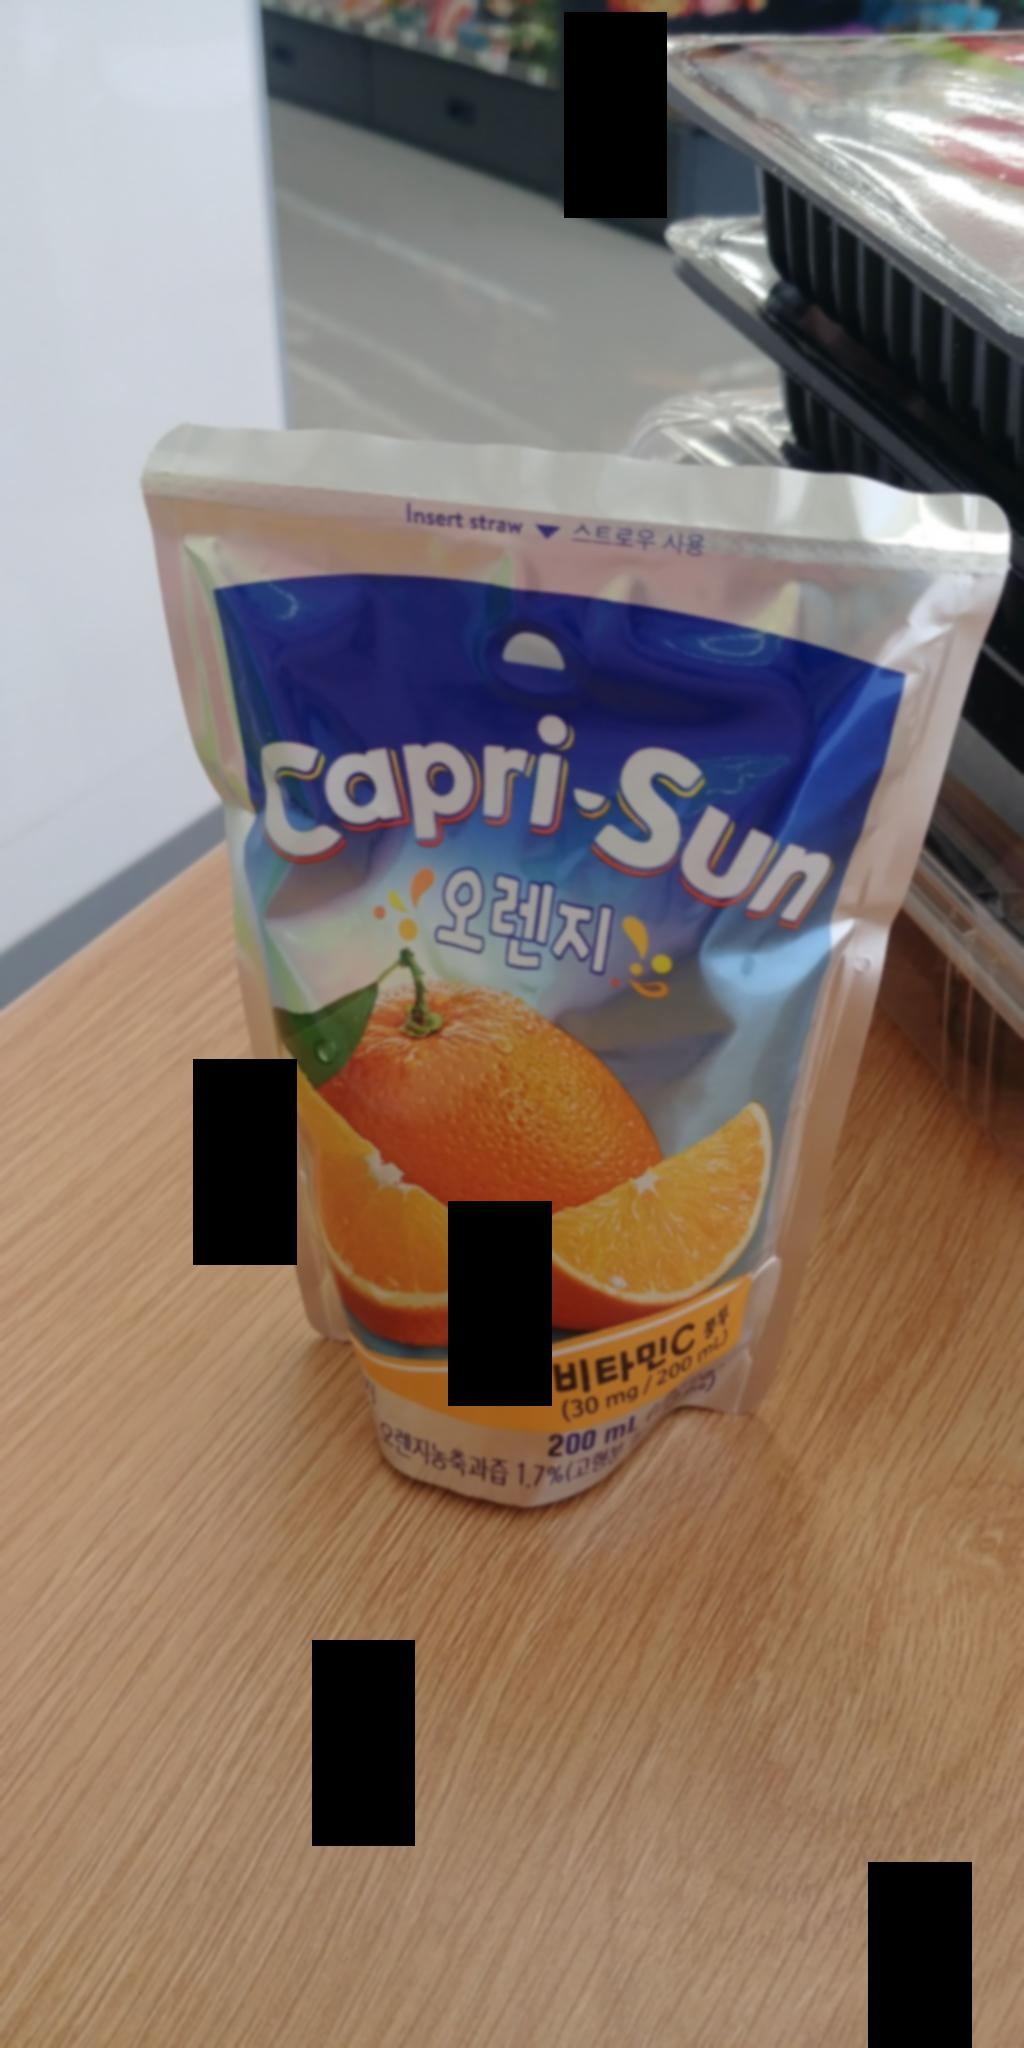cafrisun: (146, 387, 1024, 1548)
